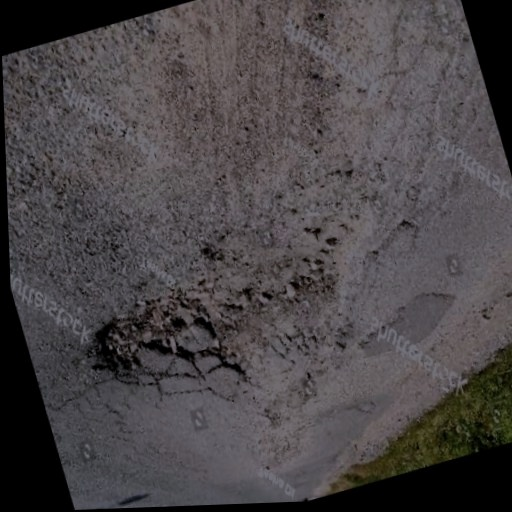pothole: (78, 277, 248, 424)
